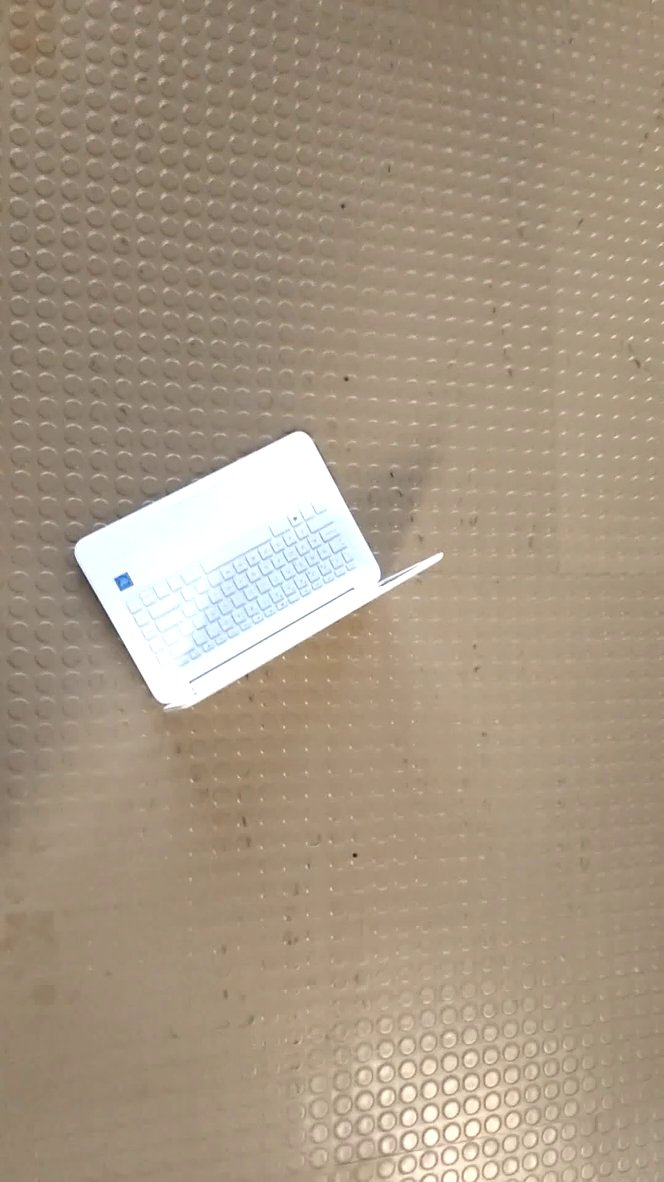laptop: (69, 428, 452, 723)
